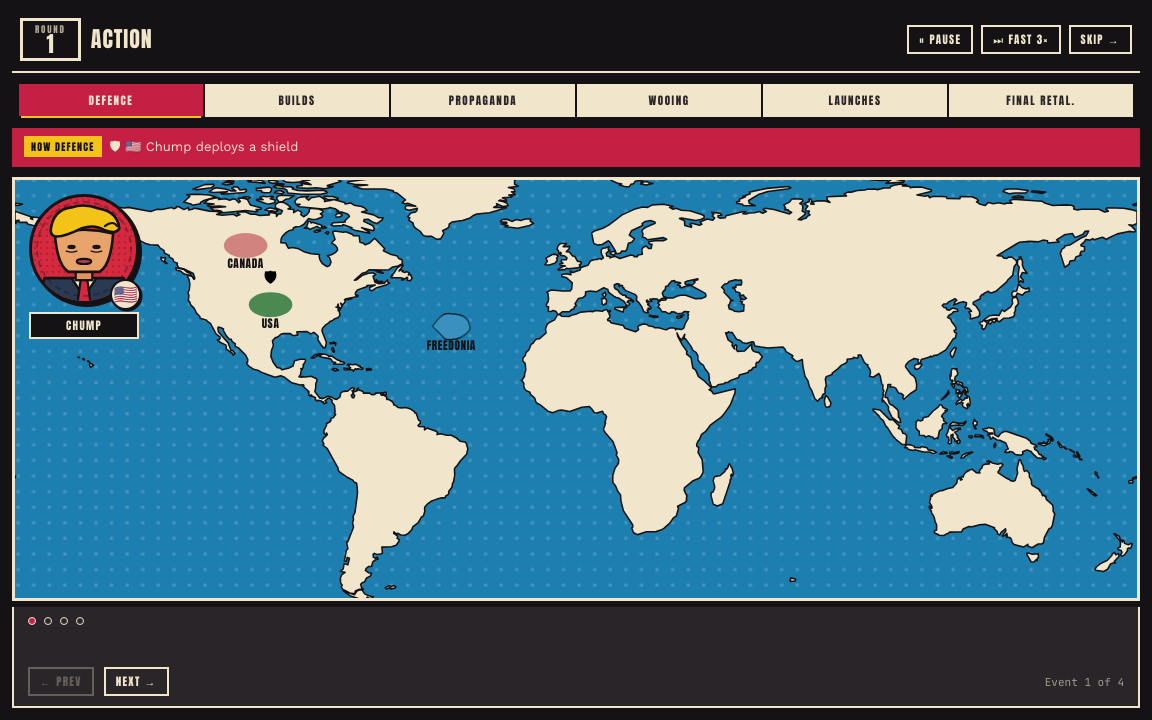
Test: <Action> playback › disables PREV at step 0; NEXT steps forward and PREV back
Check: the button "← PREV" is disabled, box x1=28 y1=667 x2=94 y2=696
Click the button "NEXT →" at (136, 682), box x1=104 y1=667 x2=169 y2=696
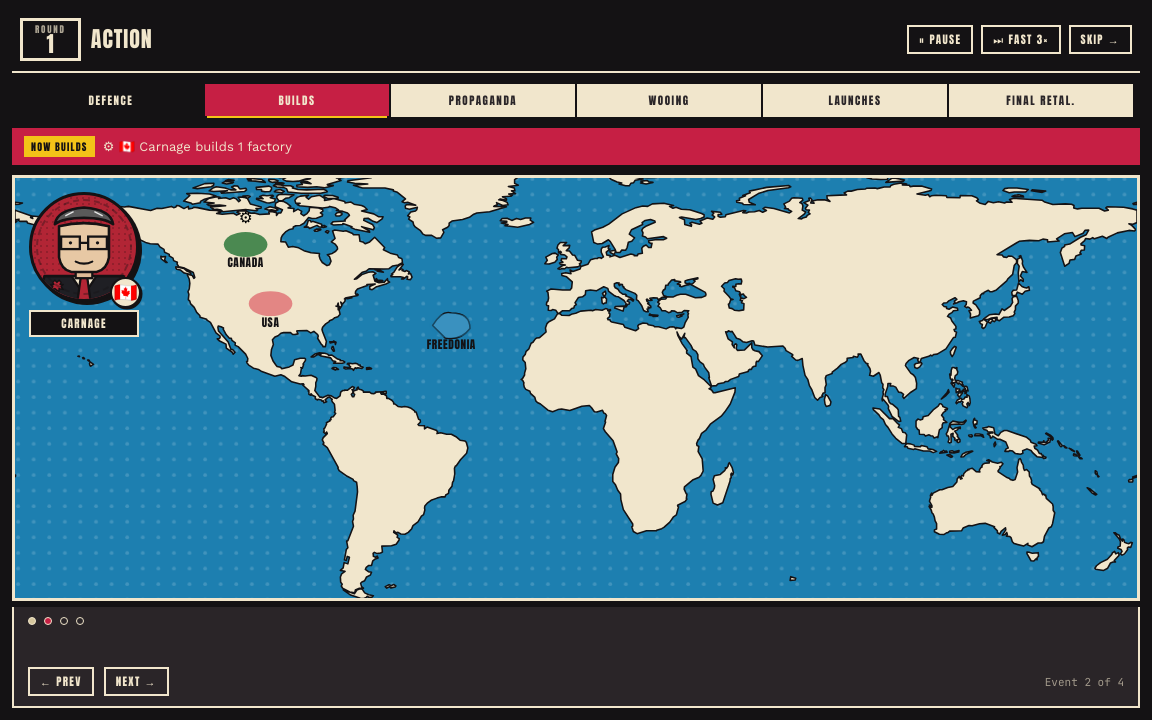
Check: the text "builds 1 factory" is shown, box x1=103 y1=139 x2=292 y2=154
Check: the text "Event 2 of 4" is shown, box x1=1045 y1=674 x2=1124 y2=688
Check: the button "← PREV" is enabled
Click the button "← PREV" at (61, 682), box x1=28 y1=667 x2=94 y2=696
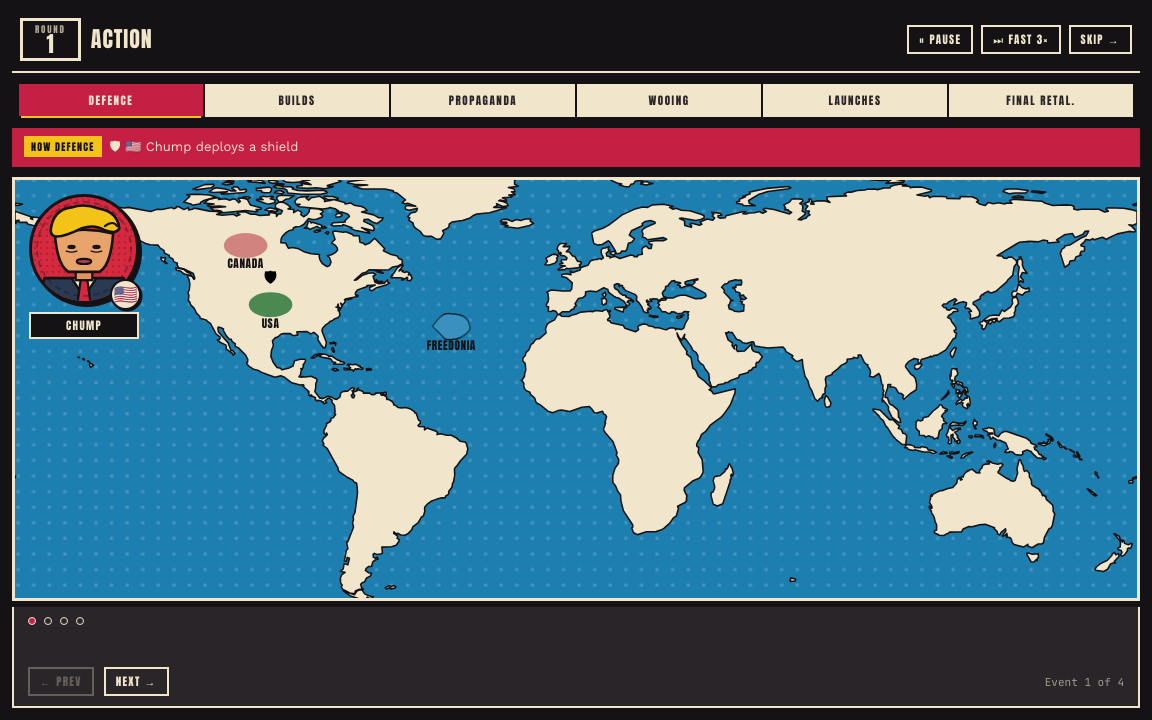
Check: the text "deploys a shield" is shown, box x1=110 y1=139 x2=298 y2=154
